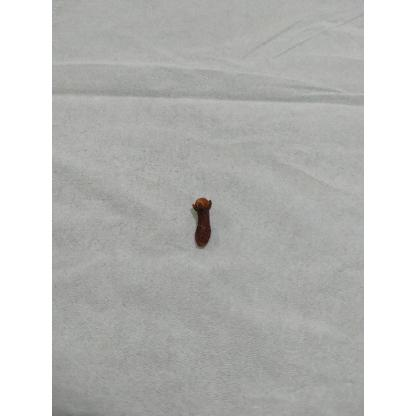sedang: (192, 198, 212, 250)
